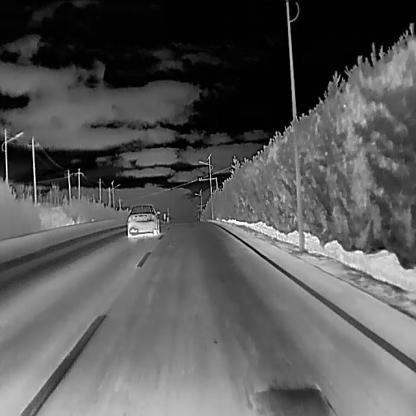car: (126, 204, 160, 236)
